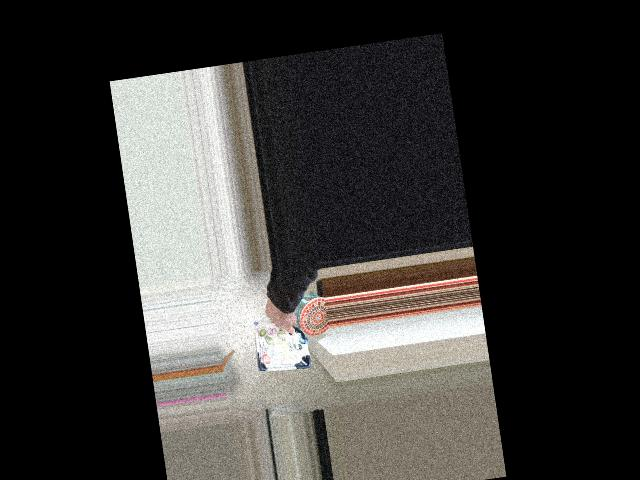cheese: (242, 297, 317, 373)
